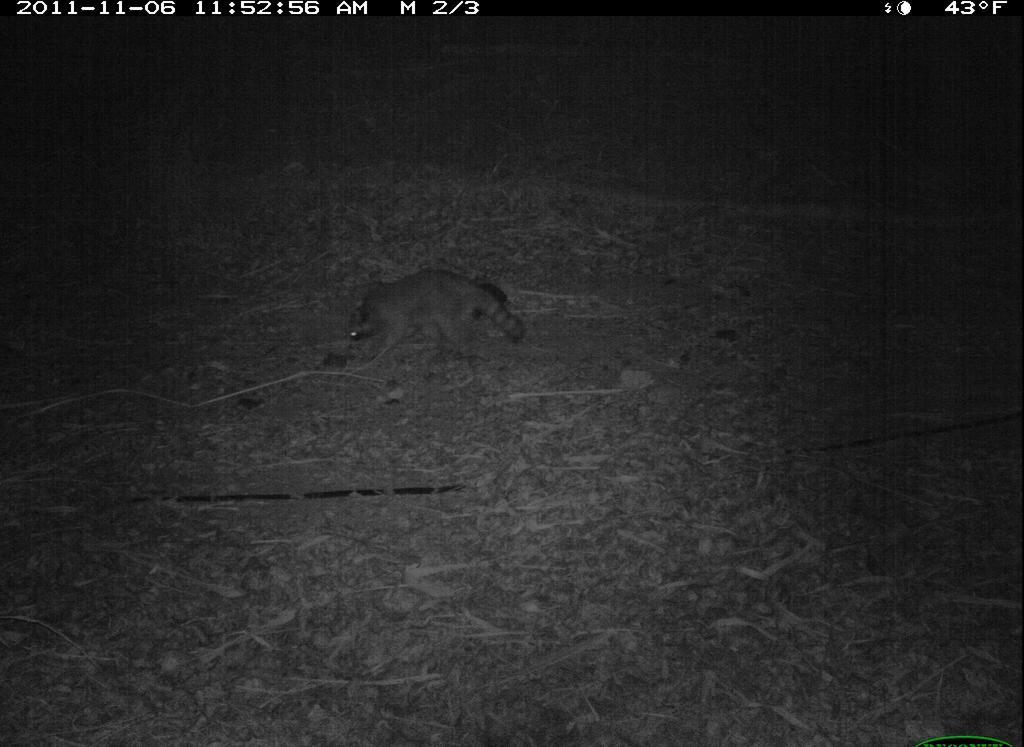raccoon: (332, 254, 539, 379)
